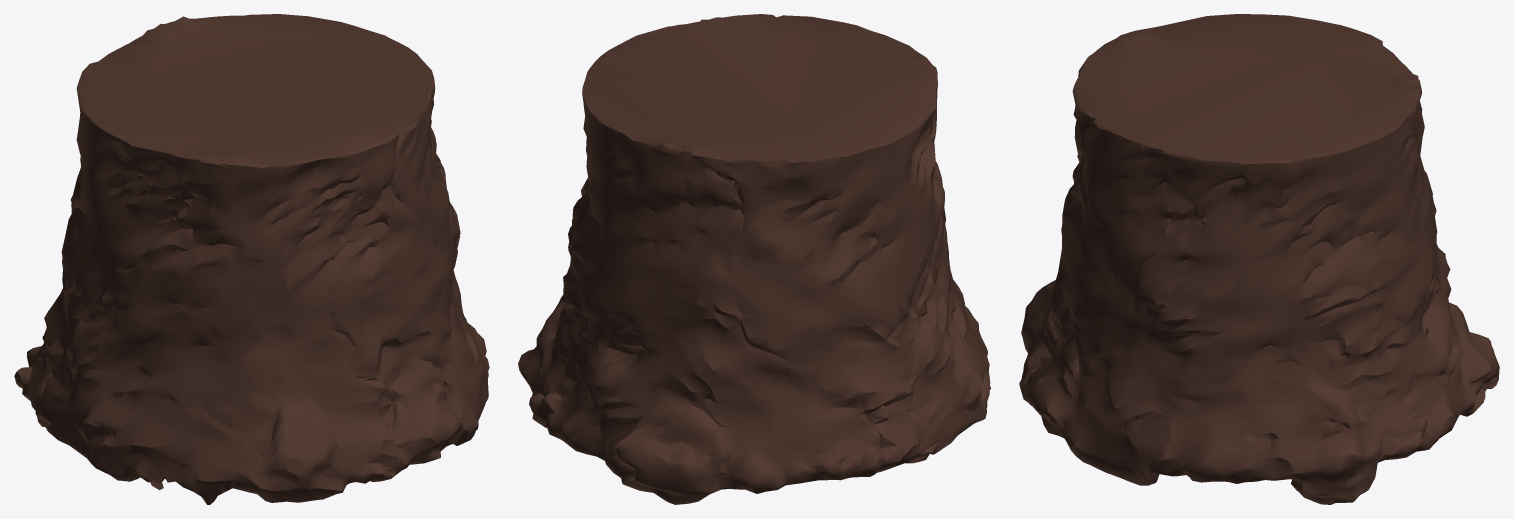
Rendered from Wall_Cylinder_20m.fbx.
The picture shows the model from 3 angles, left to right: view 1: azimuth 30°, elevation 25°; view 2: azimuth 150°, elevation 25°; view 3: azimuth 270°, elevation 25°; orthographic projection. The views are drawn at different scales.
Parts seen in each view (by area): view 1: Wall_Cylinder_20m; view 2: Wall_Cylinder_20m; view 3: Wall_Cylinder_20m.
Part boxes in pixels (bbox=[...]): Wall_Cylinder_20m: bbox=[14, 14, 489, 504]; Wall_Cylinder_20m: bbox=[518, 14, 990, 504]; Wall_Cylinder_20m: bbox=[1019, 14, 1499, 504].
Size of what is drawn, in the model's own units: 2084 by 1718 by 2192.
Materials: 1 (1 with a texture image).
